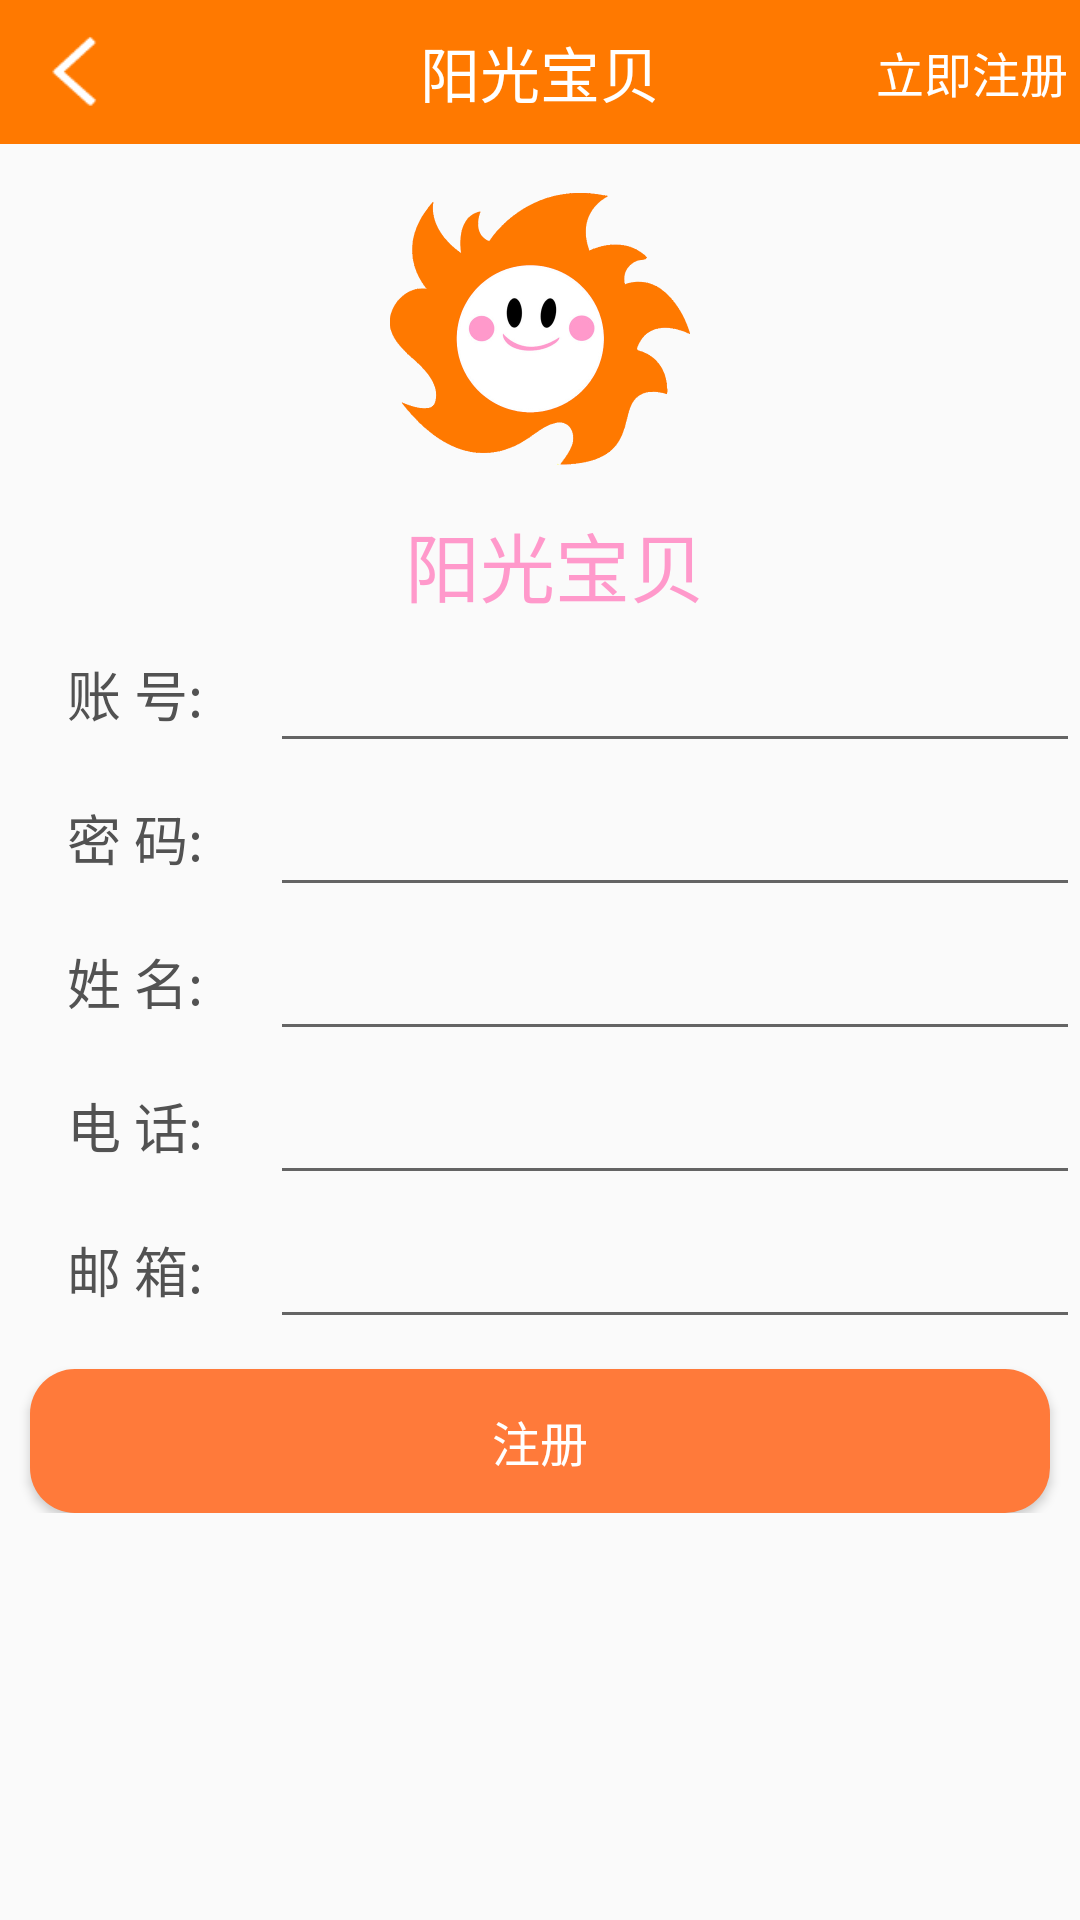

Point at icon controls on the screen. Image size 1080w x 1920h, points as (x,y).
back: (74,71)
